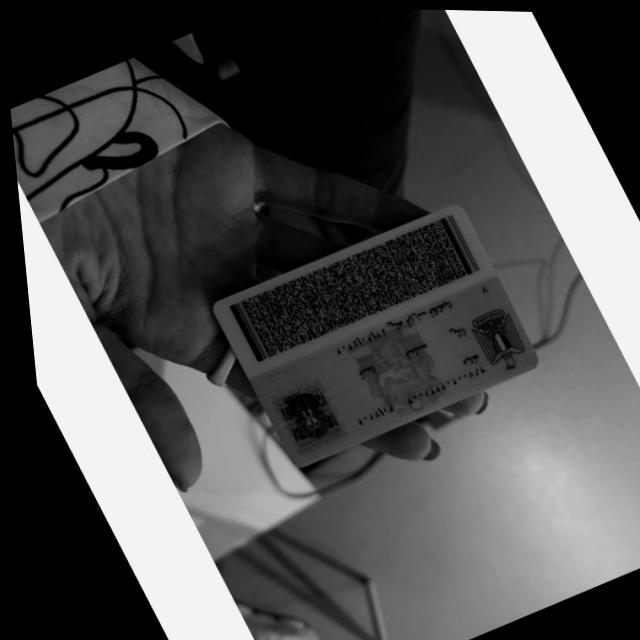back: (213, 208, 537, 463)
